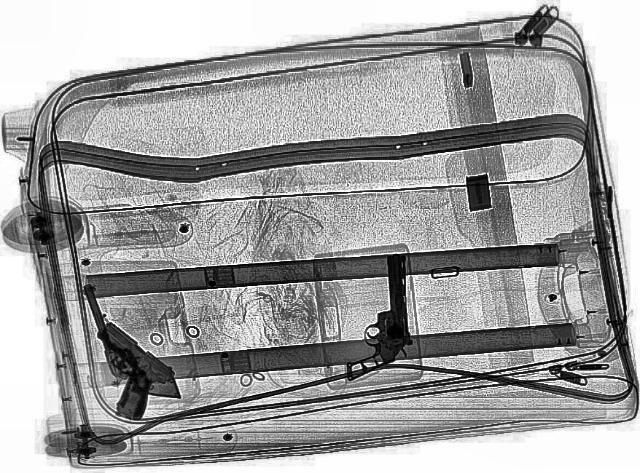Gun: (59, 280, 163, 424), (342, 247, 428, 387), (79, 322, 195, 408)
